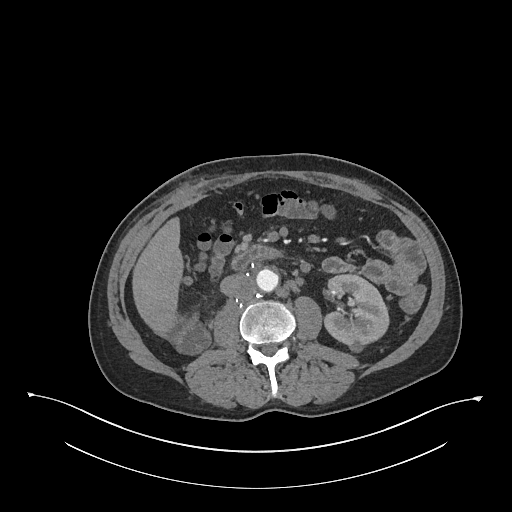Lesion: (344, 338, 366, 356)
